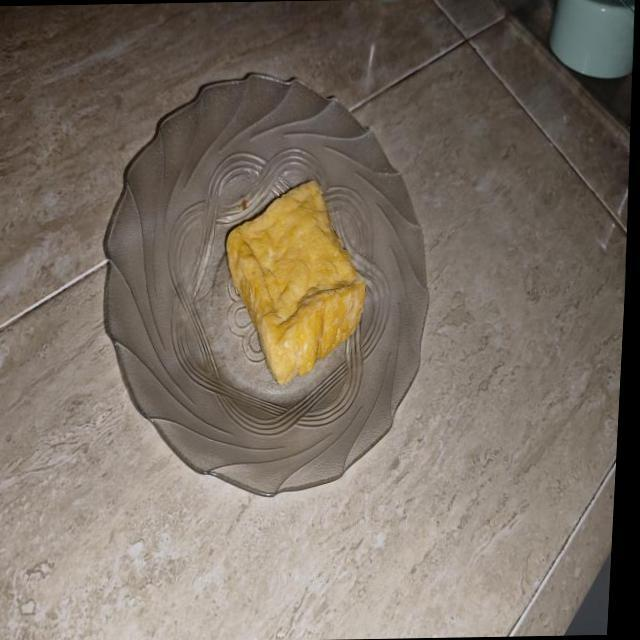tahu_goreng: (226, 180, 365, 384)
